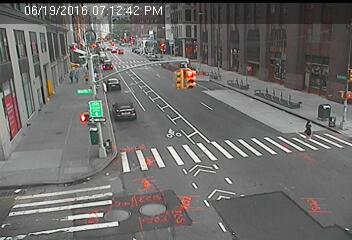neg: (93, 137, 108, 157), (101, 136, 115, 154), (228, 58, 238, 71), (168, 43, 177, 56), (185, 46, 193, 58)
pos: (298, 117, 317, 144), (71, 68, 82, 83), (65, 69, 76, 83)
